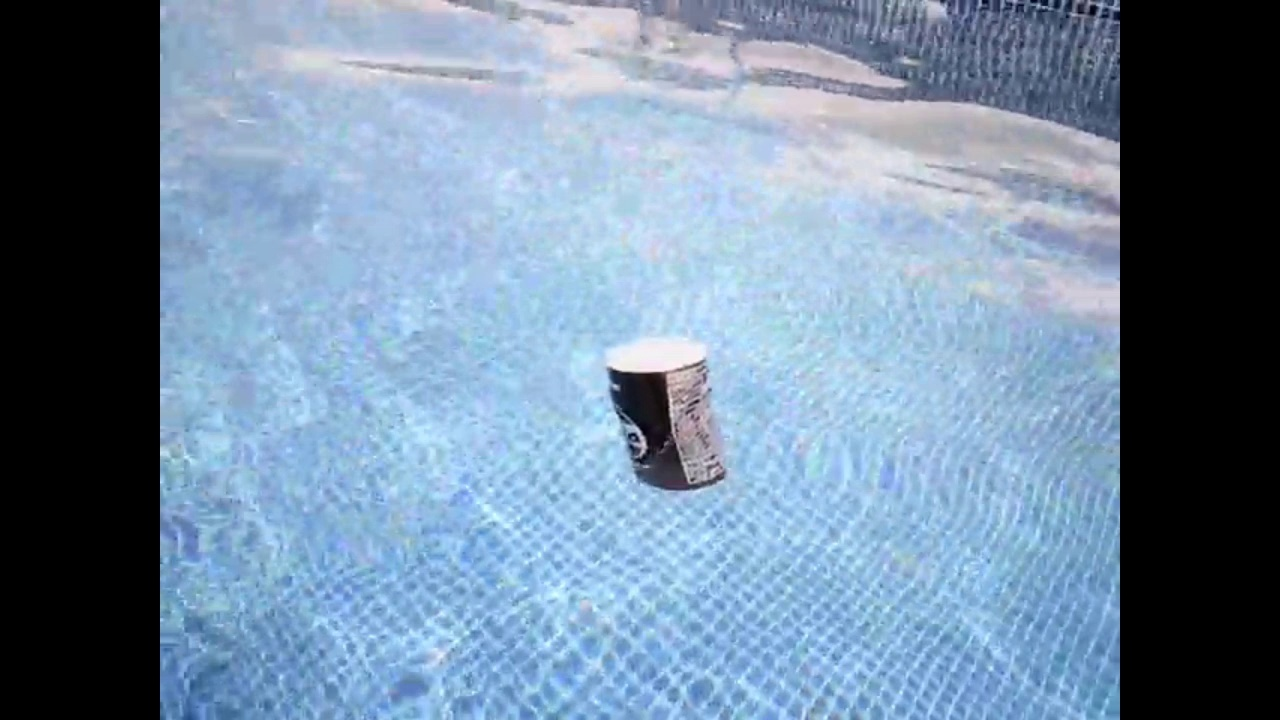debris: (592, 328, 736, 500)
